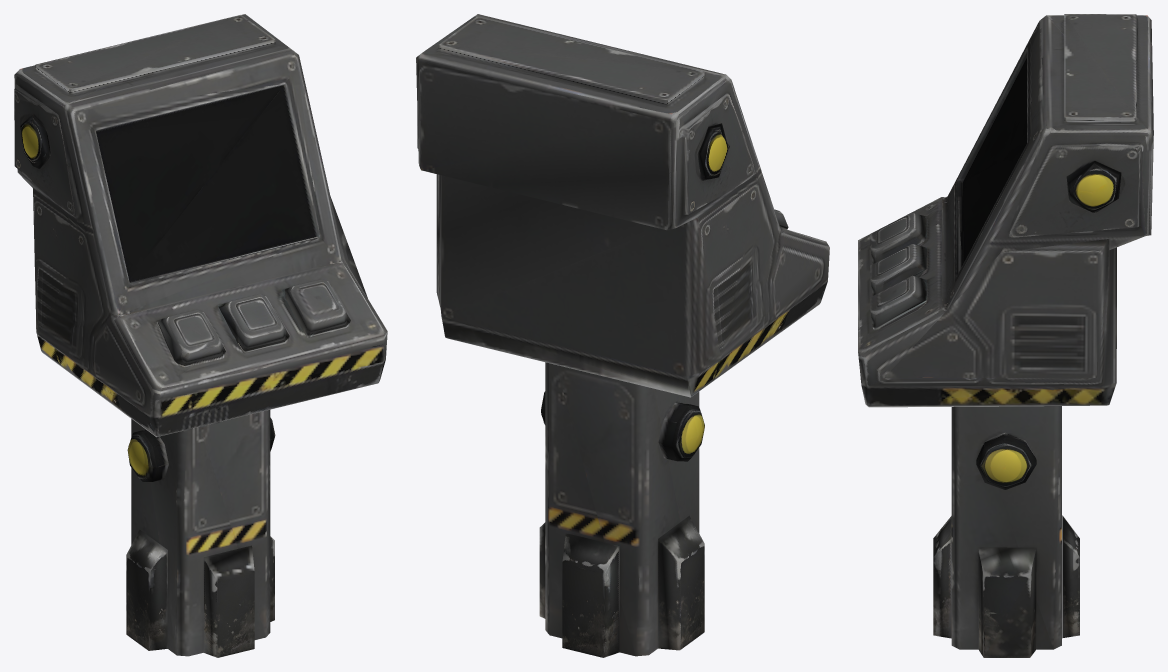
File: clamp_terminal.glb
3 views of the same model, side by side, from view 1: azimuth 30°, elevation 25°; view 2: azimuth 150°, elevation 25°; view 3: azimuth 270°, elevation 25° (orthographic). The views are drawn at different scales.
Visible parts, largest first — view 1: clamp_terminal; view 2: clamp_terminal; view 3: clamp_terminal.
Boxes of the visible parts, box(x1,y1,x2,y2) form: clamp_terminal: box(14, 14, 387, 657); clamp_terminal: box(416, 14, 829, 657); clamp_terminal: box(858, 14, 1153, 657).
Bounding box in the file's own units: 1.01 × 2 × 0.9569.
Materials: 1 (1 with a texture image).
